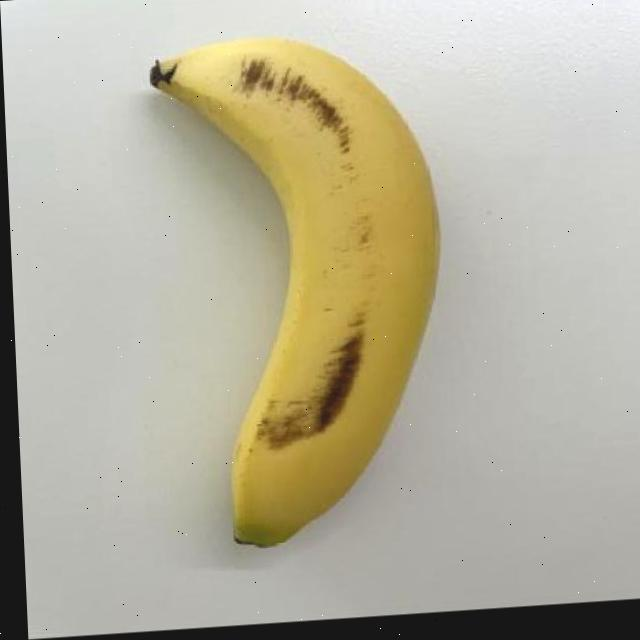banana: (141, 20, 464, 560)
